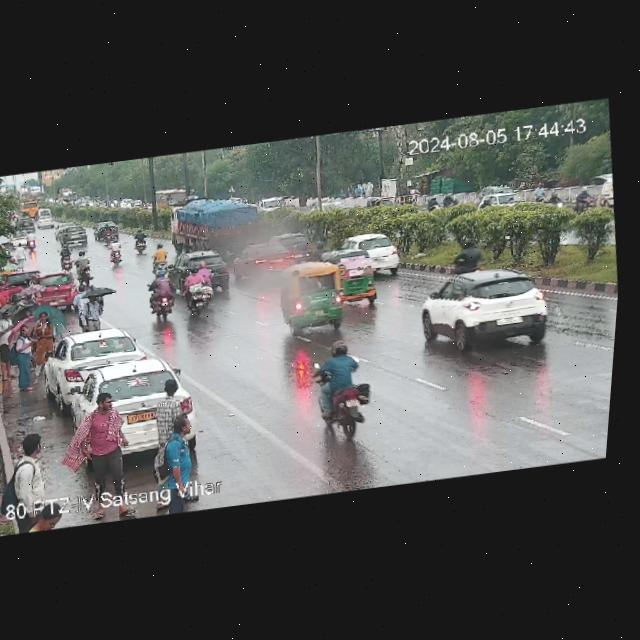bus: (151, 185, 190, 211), (17, 199, 40, 215)
car: (415, 266, 566, 359), (57, 355, 205, 440), (35, 325, 150, 393), (274, 258, 357, 334), (322, 230, 408, 281), (237, 233, 316, 274), (34, 270, 88, 308), (2, 259, 42, 292), (52, 219, 87, 245), (365, 193, 396, 211), (480, 182, 511, 199), (255, 194, 281, 213), (36, 213, 56, 229), (92, 221, 104, 242), (491, 193, 506, 207)
motorcycle: (306, 337, 378, 441), (179, 261, 224, 313), (143, 266, 183, 319), (447, 244, 489, 275), (71, 245, 93, 281), (104, 239, 129, 267), (533, 179, 561, 204), (147, 241, 170, 268), (129, 231, 154, 255), (570, 187, 592, 214), (56, 241, 75, 269), (426, 194, 454, 209), (99, 222, 114, 245), (24, 230, 39, 251), (482, 197, 491, 209), (507, 198, 518, 207)
person: (1, 425, 61, 508), (78, 389, 133, 471), (152, 419, 204, 490), (7, 321, 40, 387), (72, 282, 113, 331), (0, 308, 22, 378), (32, 312, 57, 356), (13, 241, 27, 267), (0, 281, 8, 306), (21, 308, 32, 319)
truck: (169, 194, 262, 251), (54, 186, 77, 209)
